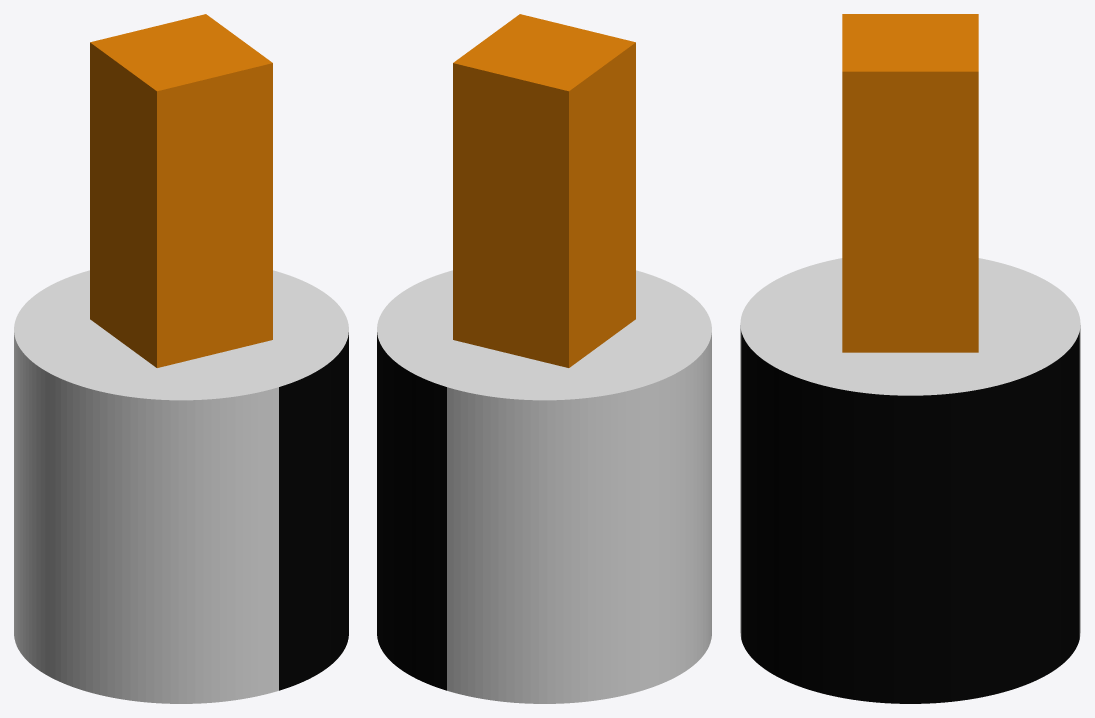
The model's file is antropomorfic_arm_link_1.dae.
The picture shows the model from 3 angles, left to right: view 1: azimuth 30°, elevation 25°; view 2: azimuth 150°, elevation 25°; view 3: azimuth 270°, elevation 25°; orthographic projection.
Parts seen in each view (by area): view 1: base; view 2: base; view 3: base.
Part boxes in pixels (bbox=[...]): base: bbox=[14, 14, 348, 703]; base: bbox=[377, 14, 711, 703]; base: bbox=[740, 14, 1080, 703].
Size of the model in its own units: 0.5 by 0.5 by 1.
